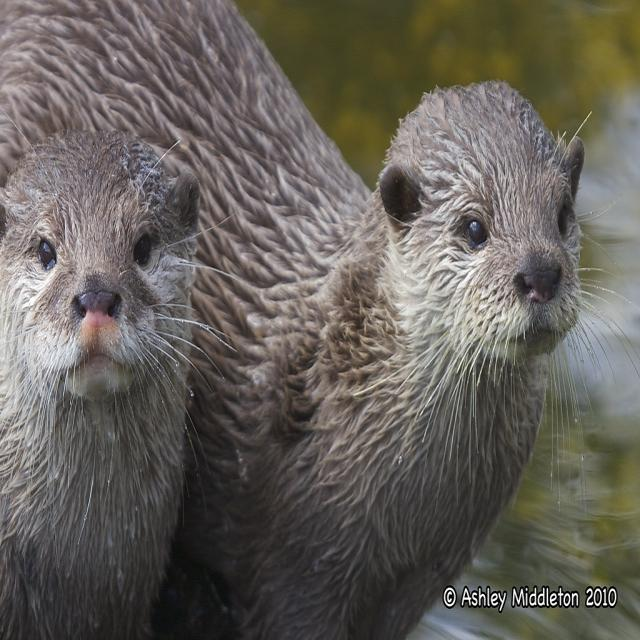otter: (222, 76, 585, 548), (1, 131, 197, 640)
